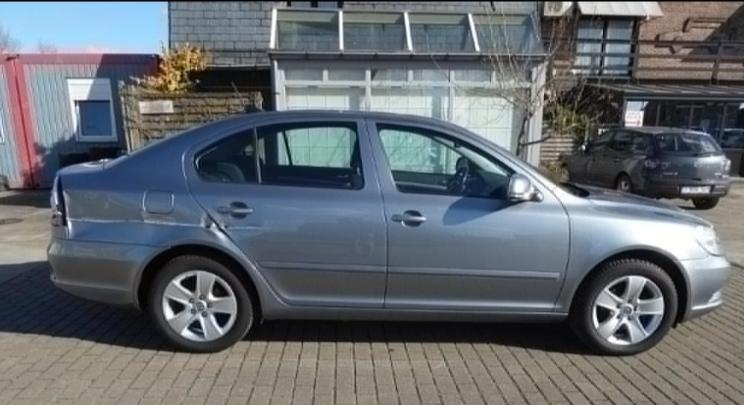Broken part: (201, 207, 246, 254)
Cracked: (51, 175, 68, 226)
Dent: (211, 210, 239, 238), (200, 212, 227, 241)
Scratch: (69, 214, 217, 228), (219, 219, 268, 230)
